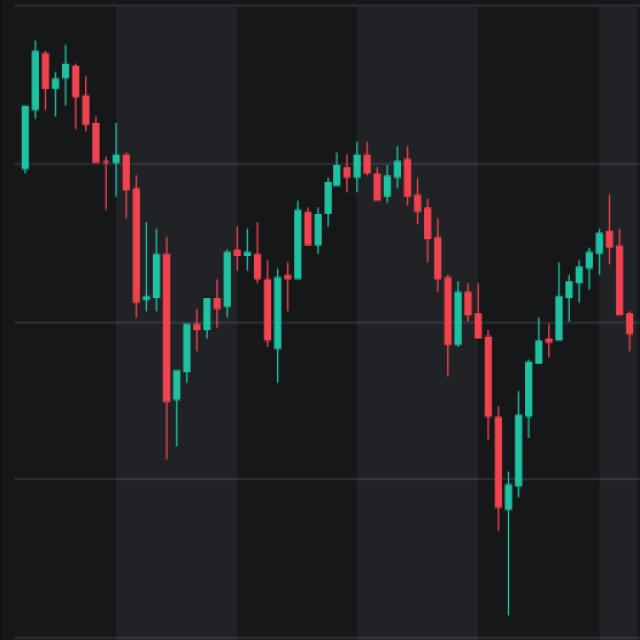Resistance-Emerging: (167, 153, 640, 511)
